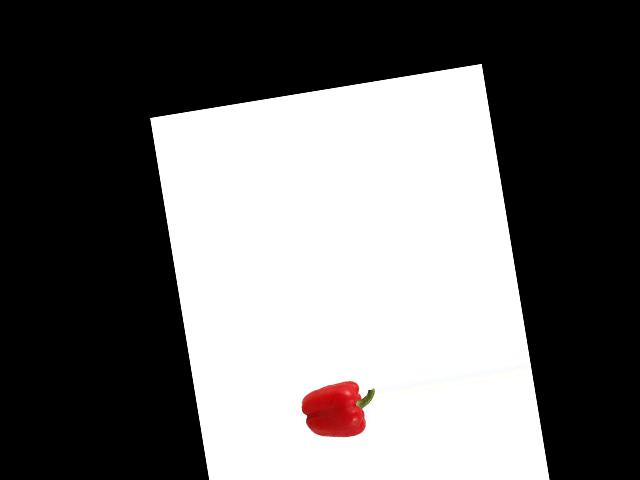bell_pepper: (297, 374, 382, 451)
